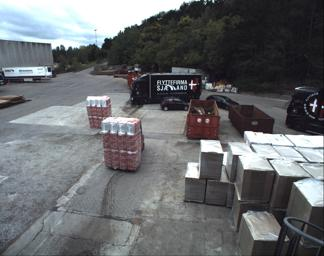rockwool_batts: (100, 114, 140, 171), (86, 93, 110, 125)
